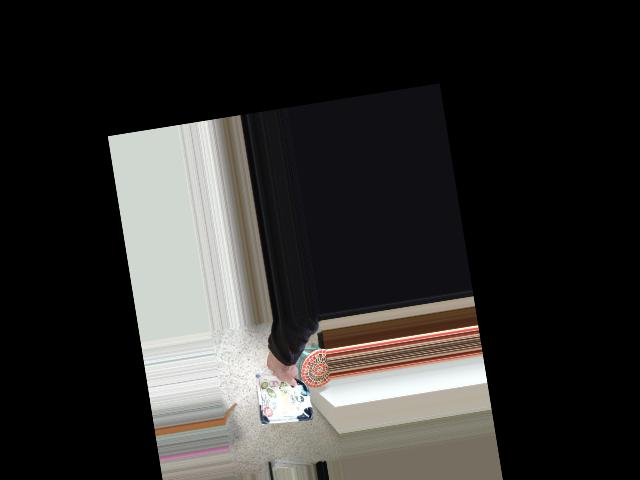cheese: (244, 349, 320, 426)
